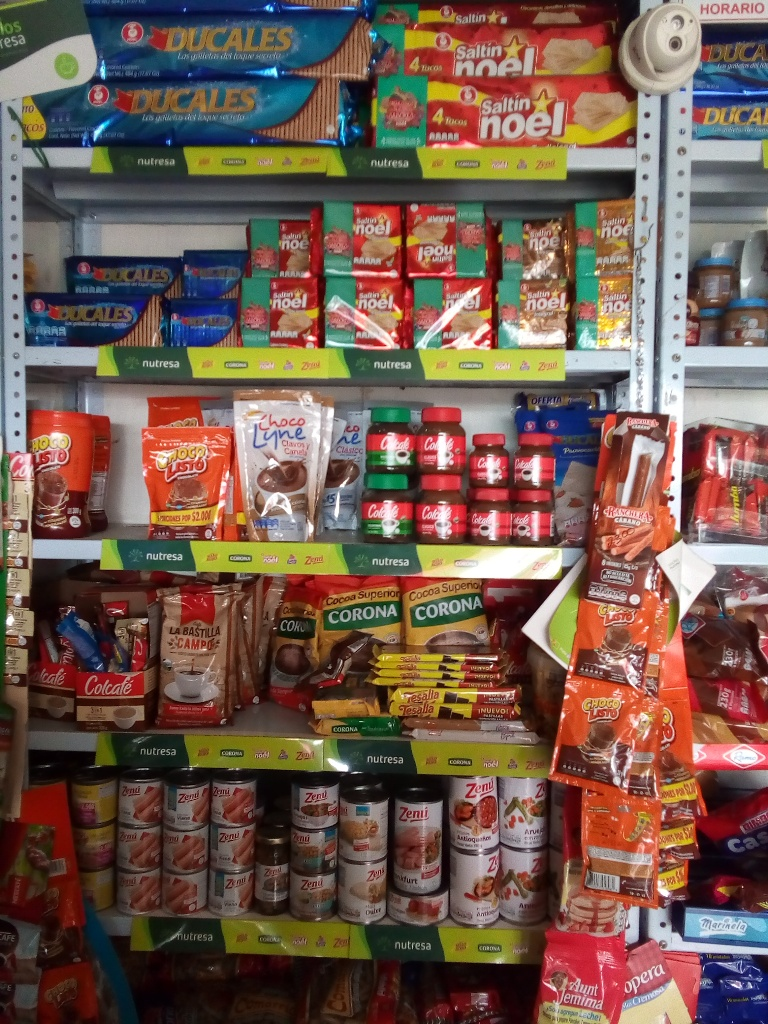COL0170103SOB02000: (580, 588, 657, 687)
